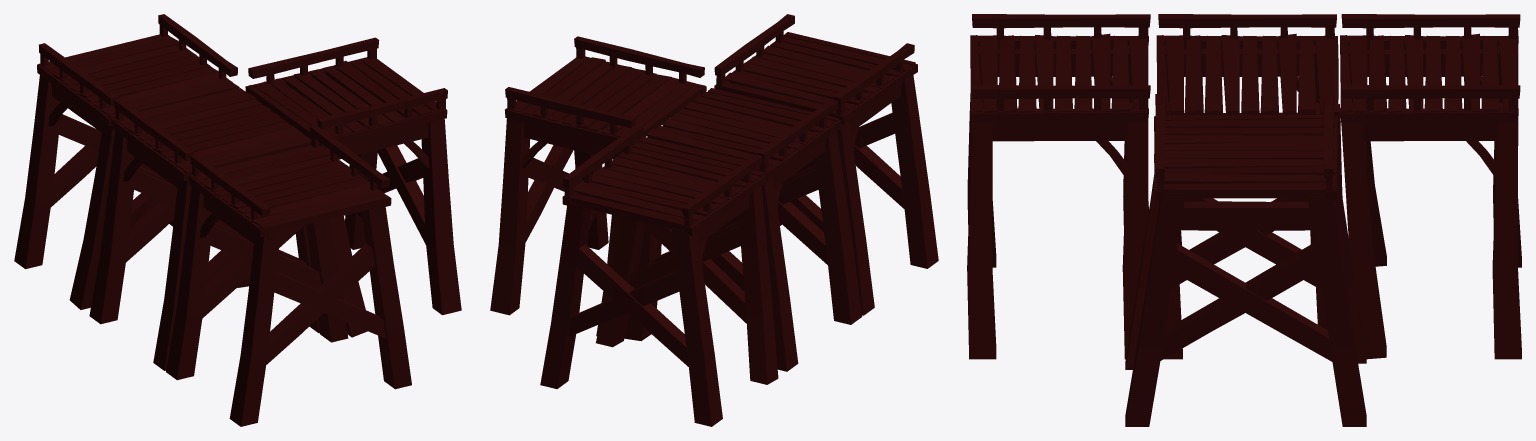
File: modulo_tocho.FBX
3 renders of one model, left to right at view 1: azimuth 30°, elevation 25°; view 2: azimuth 150°, elevation 25°; view 3: azimuth 270°, elevation 25°, orthographic. The views are drawn at different scales.
Parts seen in each view (by area): view 1: modulo_004; view 2: modulo_004; view 3: modulo_004.
Boxes of the visible parts, x1,y1,x2,y2 form: modulo_004: (14,14,461,426); modulo_004: (490,14,938,426); modulo_004: (967,14,1521,426).
Bounding box in the file's own units: 1371 × 979 × 1895.
